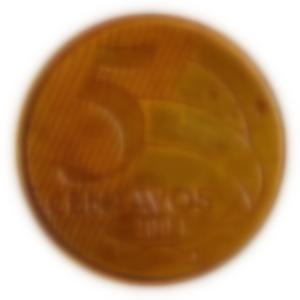5 cent: (16, 12, 286, 282)
